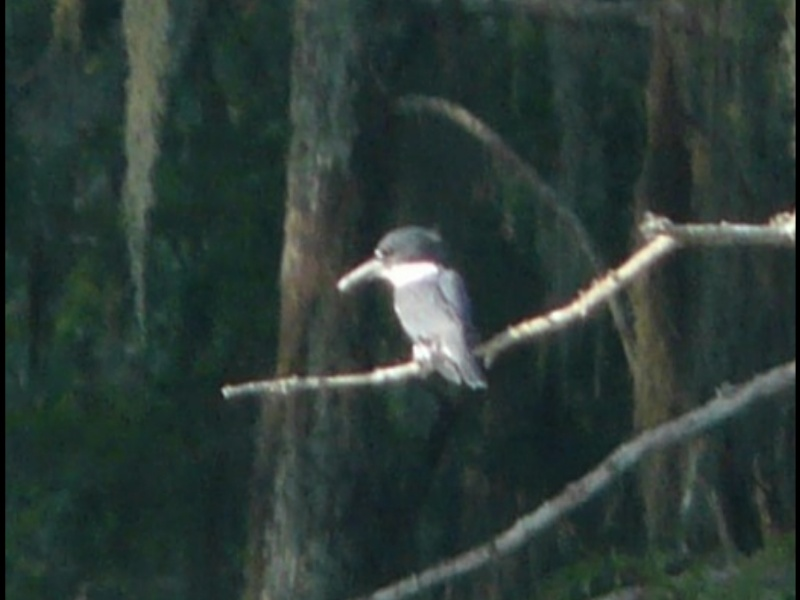kingfisher: (336, 220, 489, 396)
